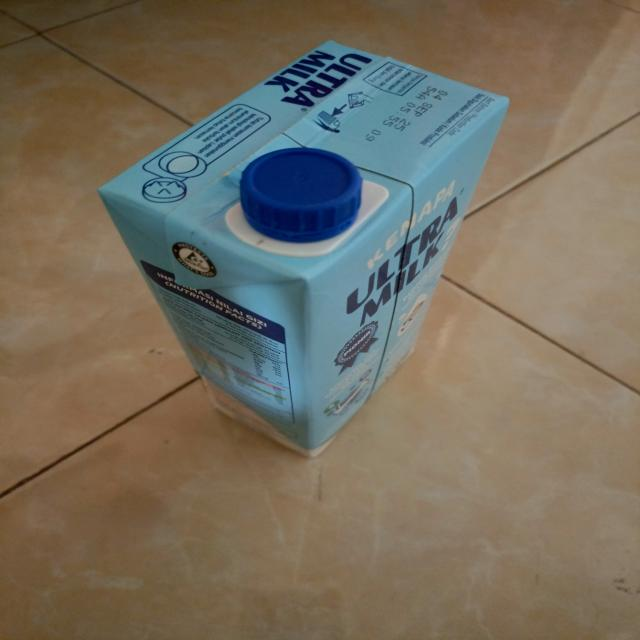ultramilk-full-cream: (100, 36, 513, 461)
